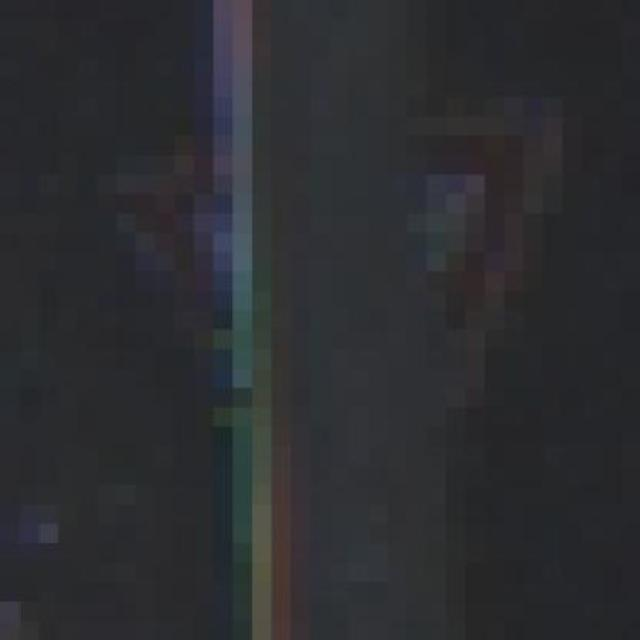Give Way: (77, 97, 601, 505)
